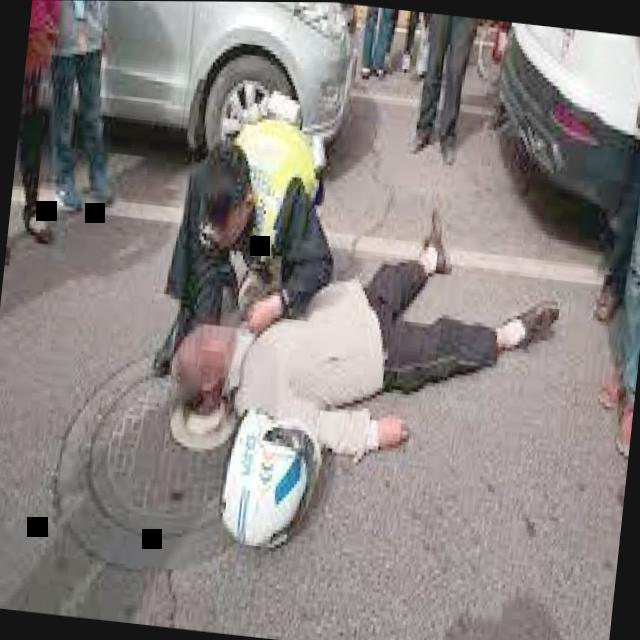Fall-Detected: (156, 160, 574, 497)
